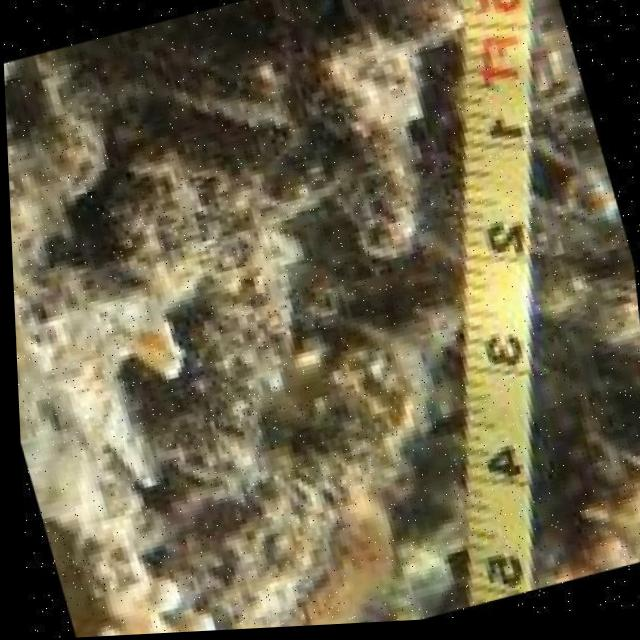Bleached Coral: (3, 81, 194, 639)
Dead Coral: (133, 0, 466, 575)
